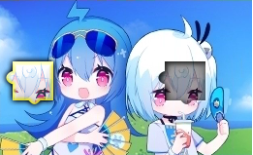gap: (159, 61, 206, 104)
